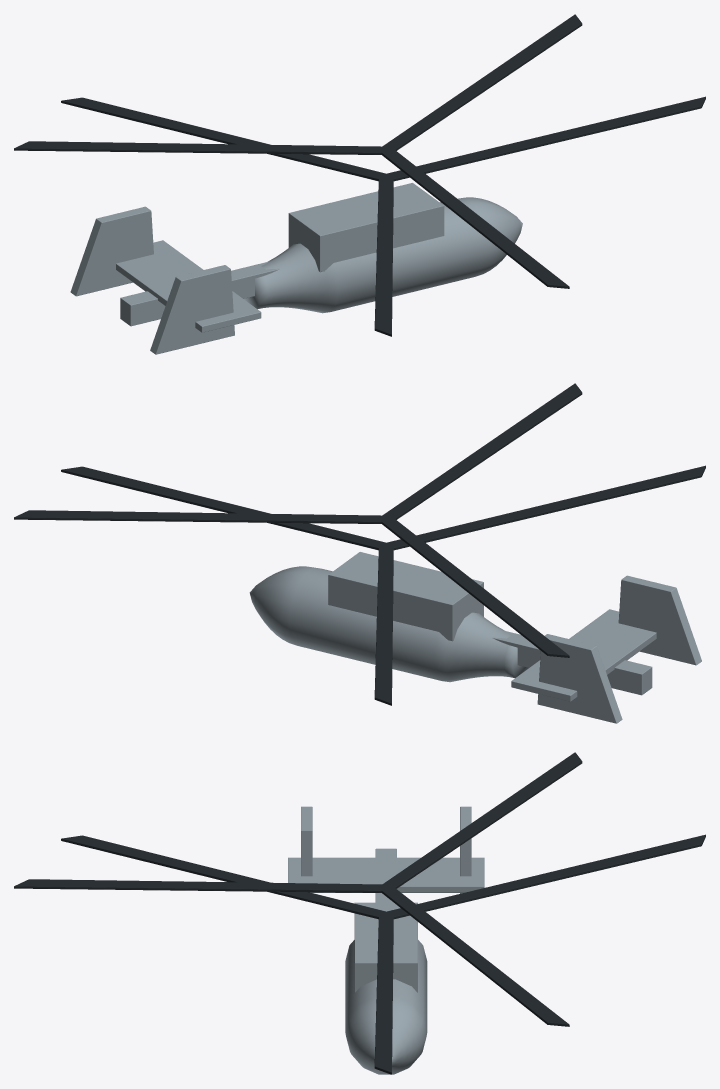
File: rfn_helo_ka27.glb
The picture shows the model from 3 angles, top to bottom: view 1: azimuth 30°, elevation 25°; view 2: azimuth 150°, elevation 25°; view 3: azimuth 270°, elevation 25°; orthographic projection.
Parts seen in each view (by area): view 1: rfn_helo_ka27; view 2: rfn_helo_ka27; view 3: rfn_helo_ka27.
Boxes of the visible parts, box(x1,y1,x2,y2) form: rfn_helo_ka27: box(14, 14, 705, 354); rfn_helo_ka27: box(14, 383, 705, 723); rfn_helo_ka27: box(14, 752, 705, 1074).
Size of the model in its own units: 10 by 2.29 by 9.98.
